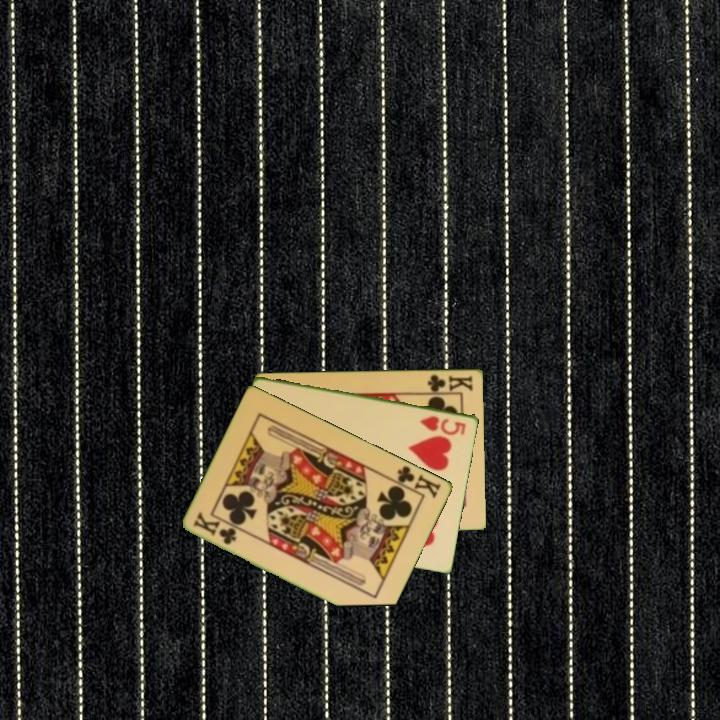5h: (417, 412, 469, 438)
Kc: (388, 462, 444, 501), (190, 509, 240, 548), (421, 371, 476, 395)
